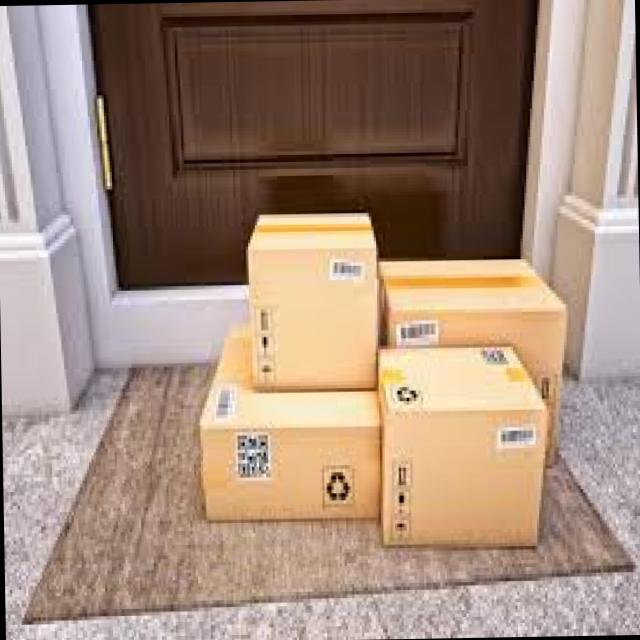box: (376, 258, 570, 470), (196, 327, 383, 523), (376, 345, 550, 549), (245, 212, 381, 392)
